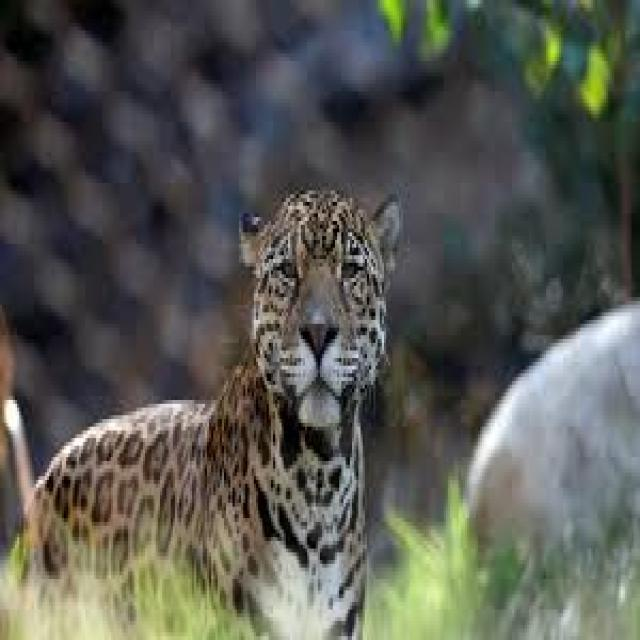Jaguar: (12, 175, 394, 640)
